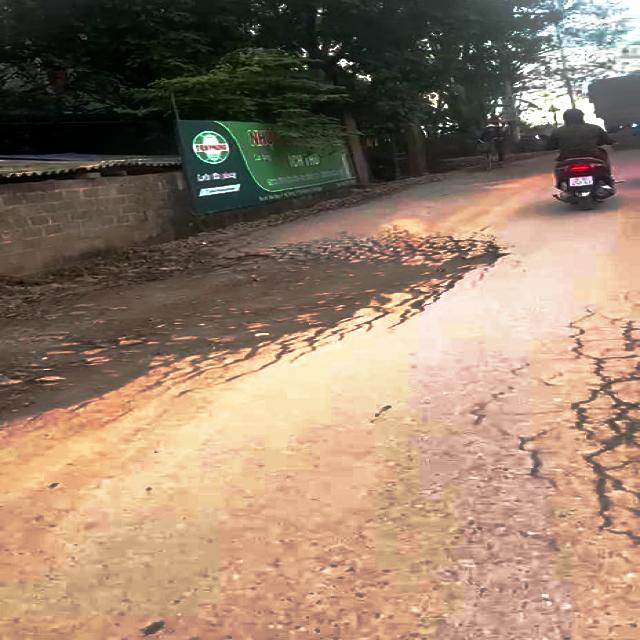pothole: (0, 231, 491, 401)
